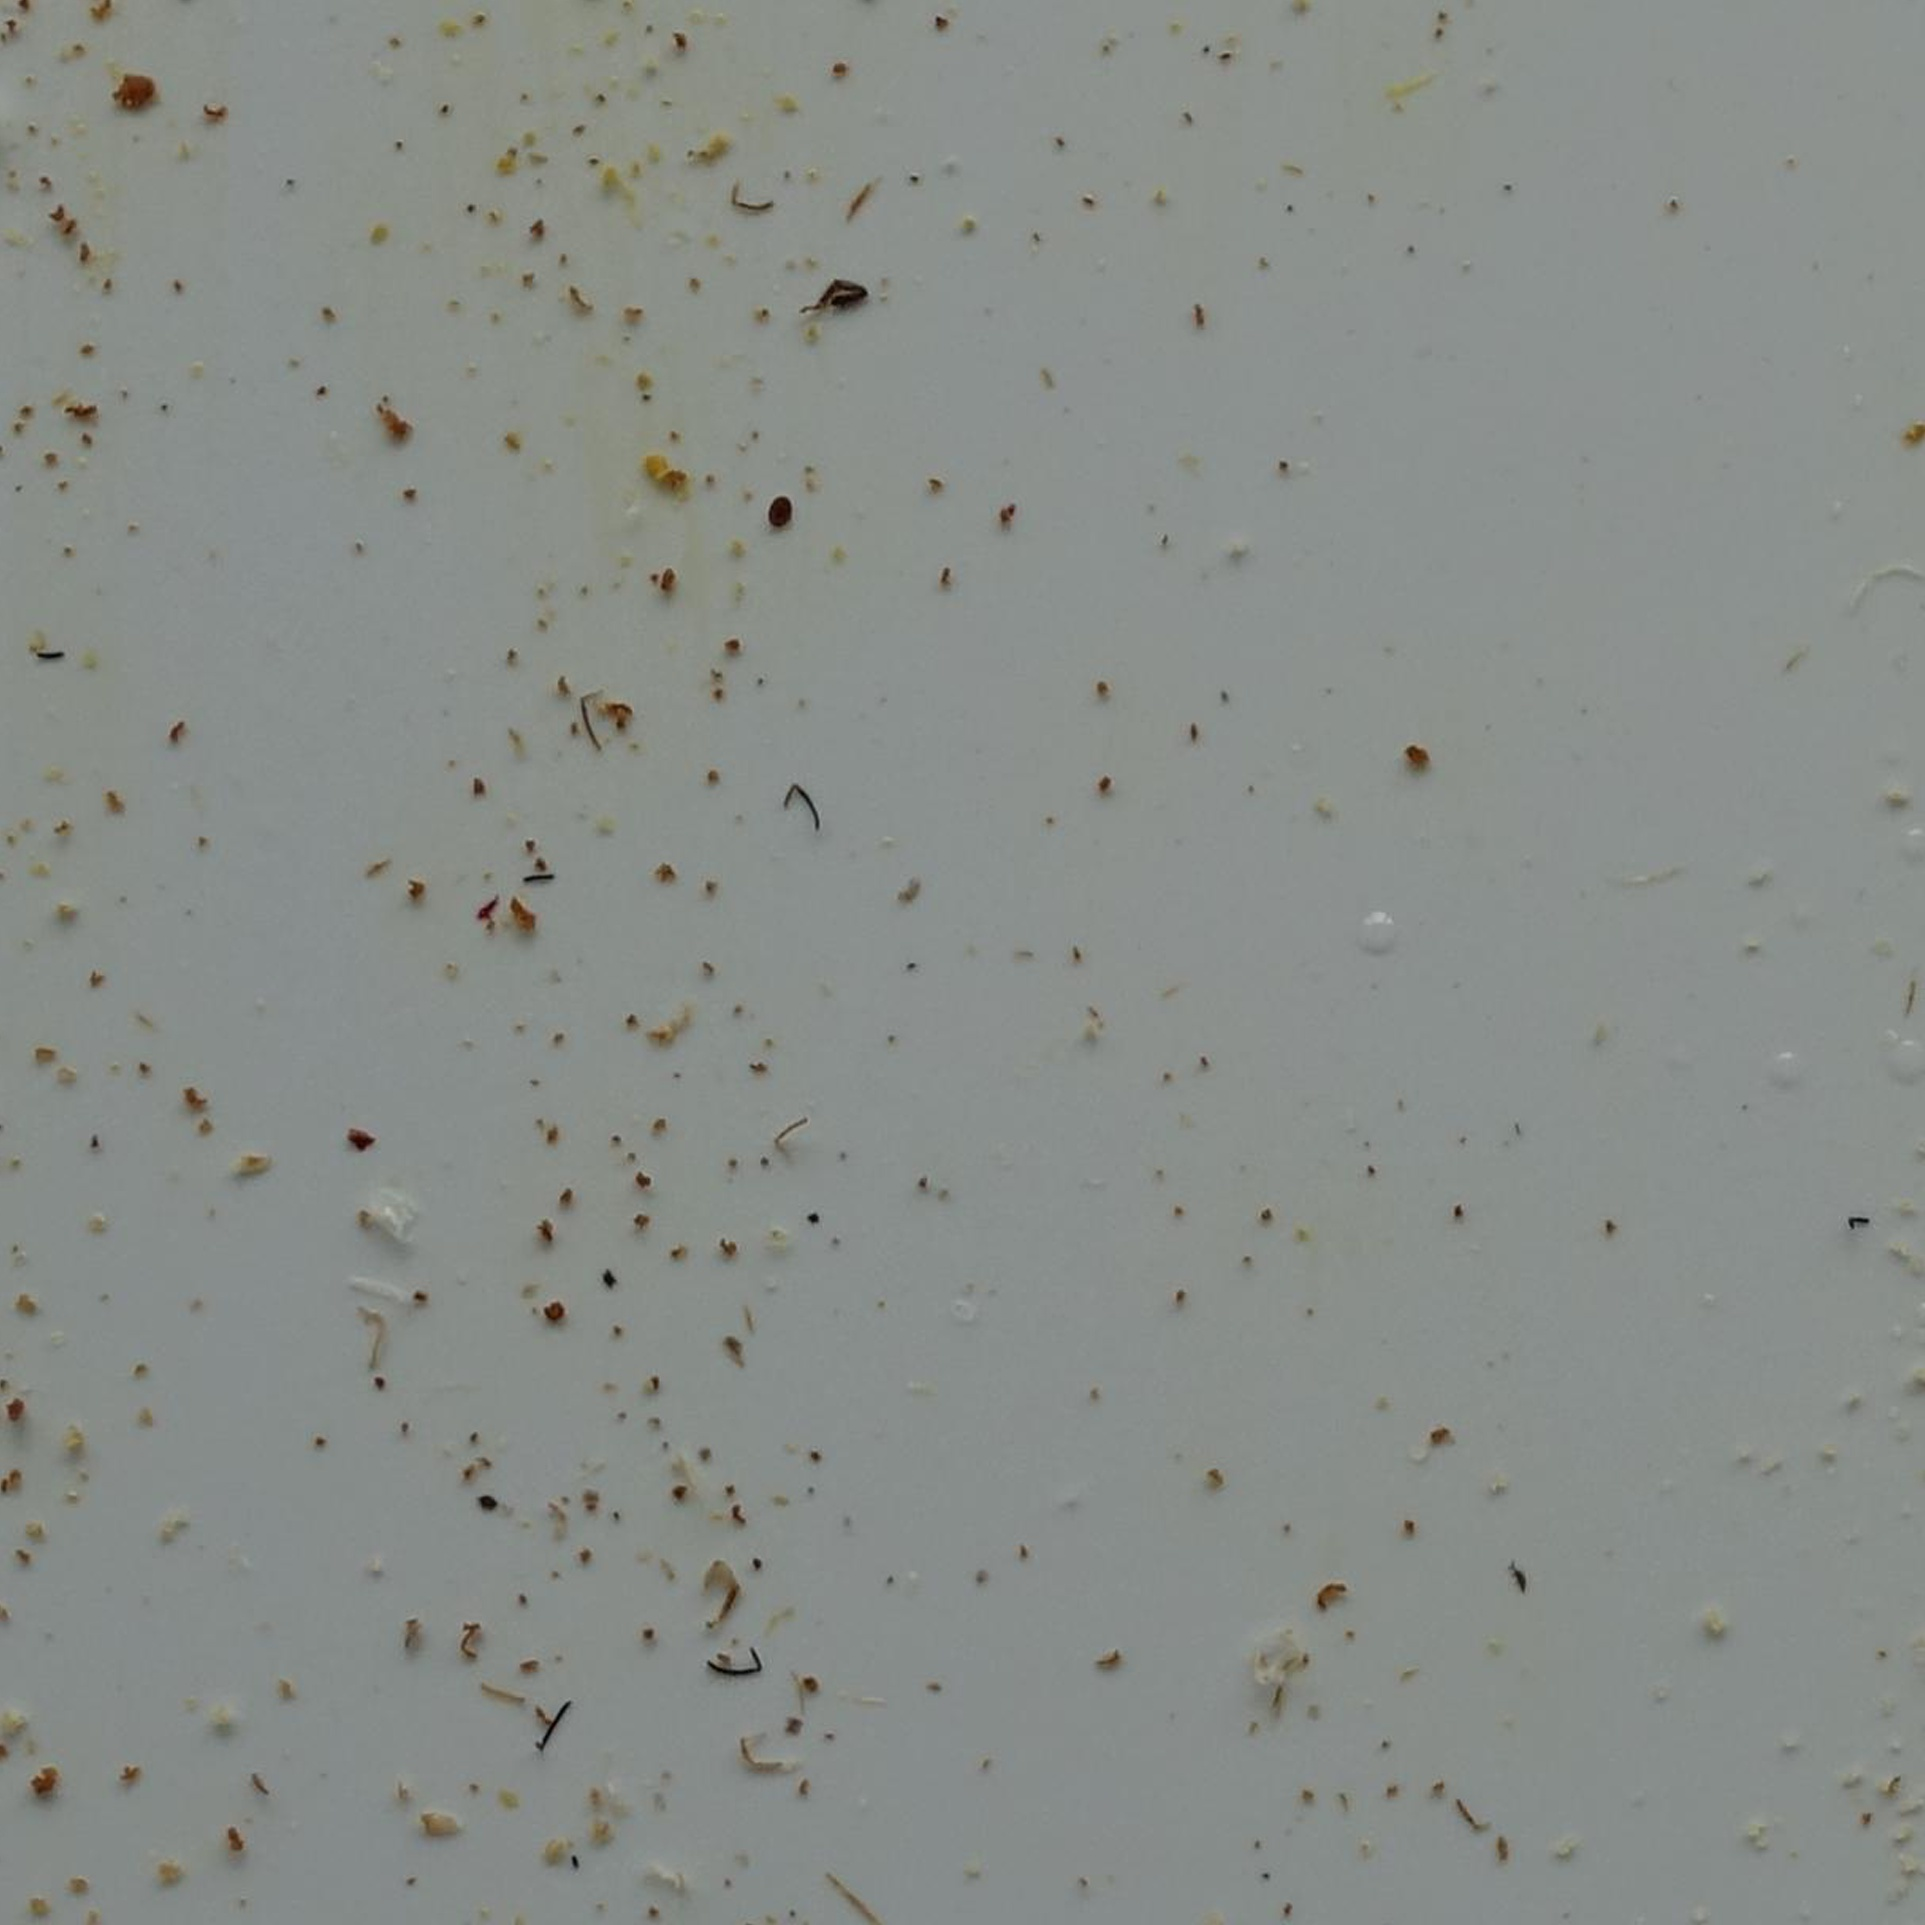Varroa: (769, 504, 784, 522)
